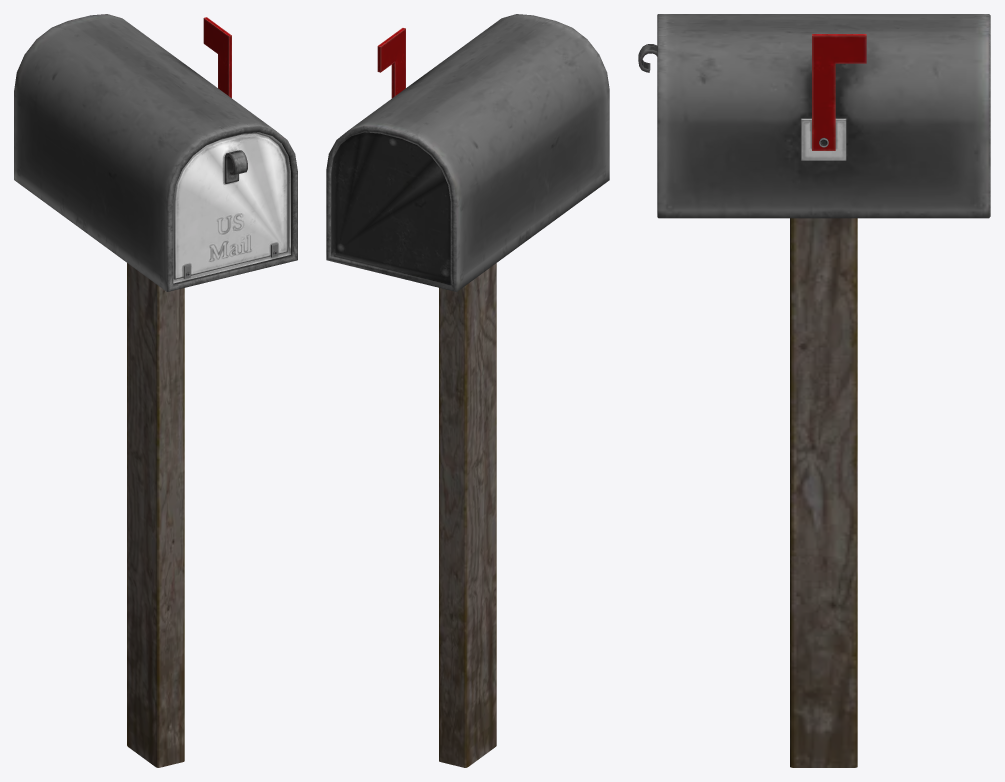
The model's file is mailbox.glb.
3 renders of one model, left to right at view 1: azimuth 30°, elevation 25°; view 2: azimuth 150°, elevation 25°; view 3: azimuth 270°, elevation 25°, orthographic. The views are drawn at different scales.
Visible parts, largest first — view 1: Object_4; view 2: Object_4; view 3: Object_4.
Boxes of the visible parts, <box> form: Object_4: <box>14,14,297,767</box>; Object_4: <box>326,14,609,767</box>; Object_4: <box>638,14,990,767</box>.
Size of the model in its own units: 0.7313 by 3.56 by 1.49.
Materials: 1 (1 with a texture image).
